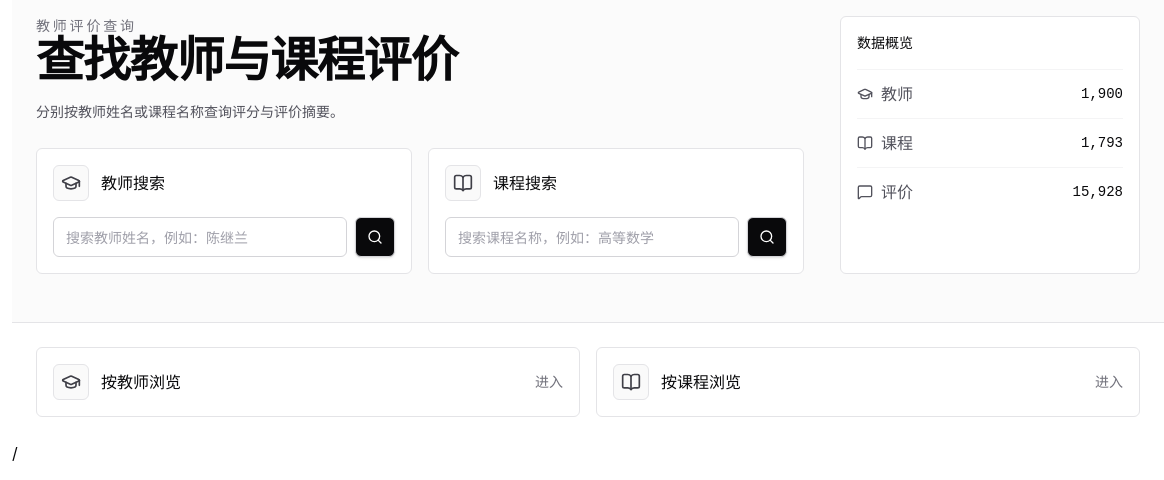
Test: HomePage › submits teacher and course searches to separate pages
This screenshot has width=1164, height=480.
Type "陈继兰" into the field with placeholder "搜索教师姓名，例如：陈继兰". click: (200, 237)
box: top-left (53, 217), bottom-right (347, 257)
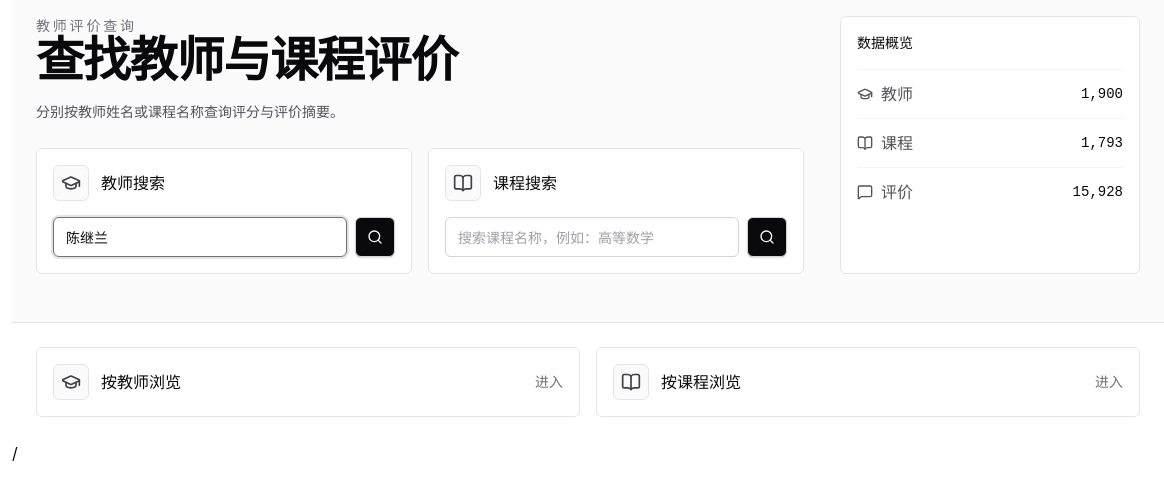
Click the button named "教师搜索". click: (375, 237)
box: top-left (355, 217), bottom-right (395, 257)
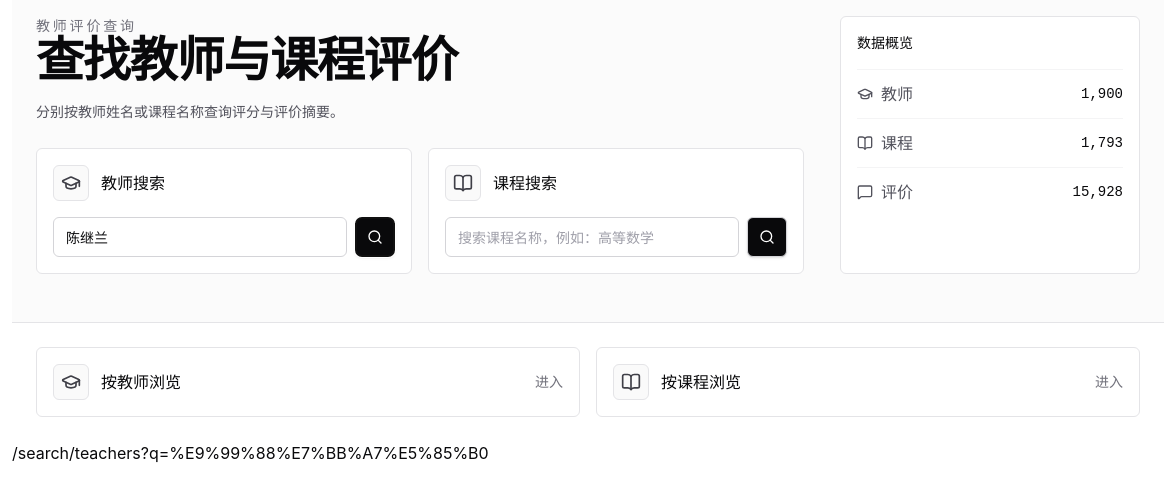
expect the text with test id "location" reads "/search/teachers?q=%E9%99%88%E7%BB%A7%E5%85%B0": met, box top-left (12, 443), bottom-right (489, 463)
